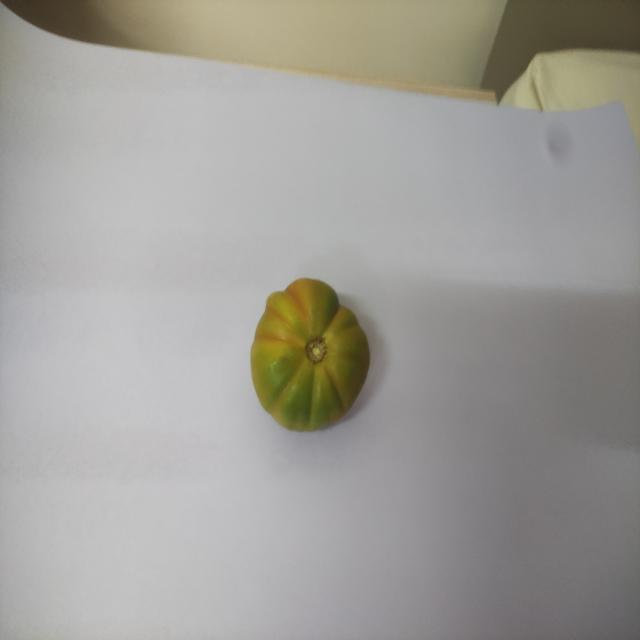yesil: (246, 258, 382, 450)
